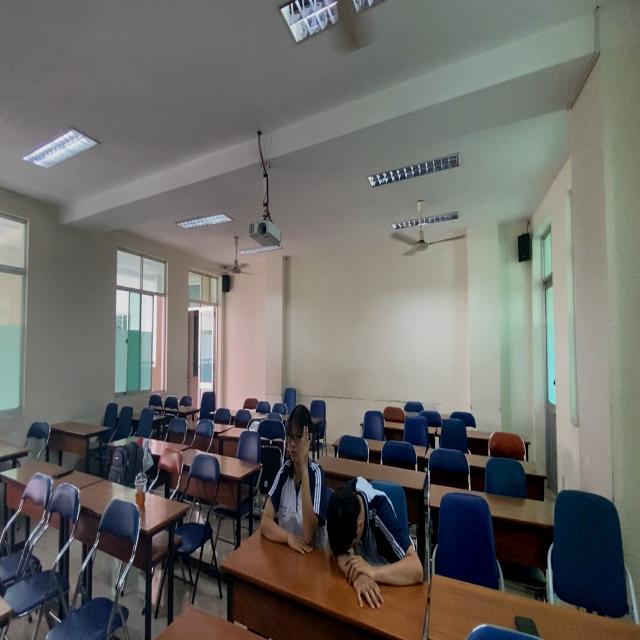raise_hand: (257, 395, 324, 554)
sleep: (325, 470, 428, 609)
